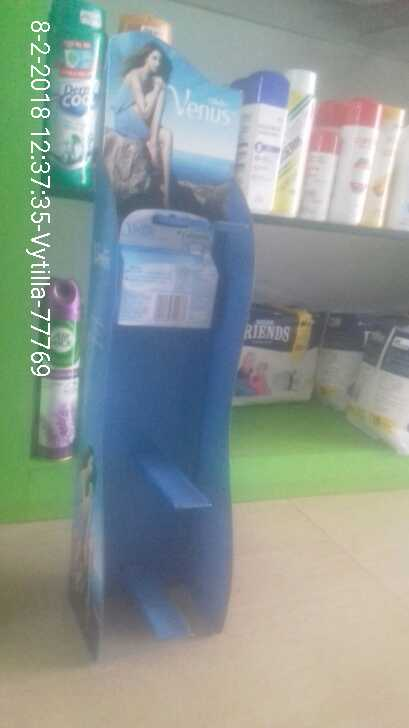reject: (139, 339, 202, 420)
